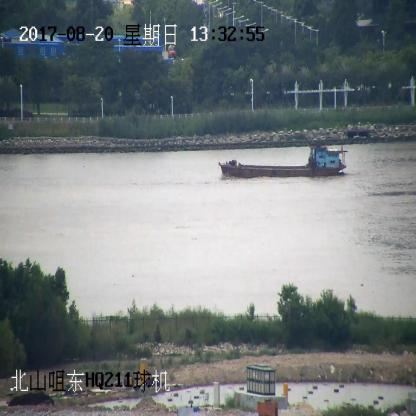Bulk Carrier: (220, 146, 347, 177)
